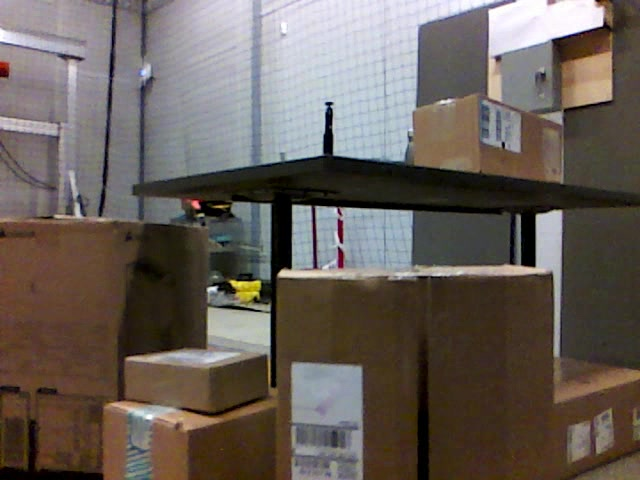box: (274, 267, 552, 480), (1, 215, 210, 479), (100, 402, 275, 480), (410, 97, 565, 182), (553, 357, 640, 476), (124, 349, 266, 414)
